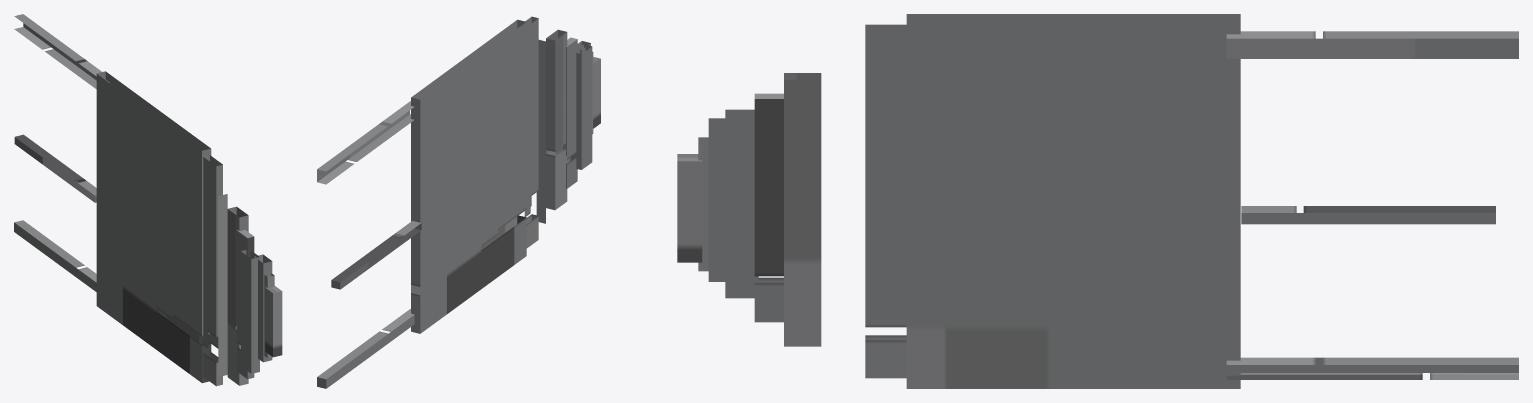
The picture shows the model from 3 angles, left to right: view 1: azimuth 30°, elevation 25°; view 2: azimuth 150°, elevation 25°; view 3: azimuth 270°, elevation 25°; orthographic projection. The views are drawn at different scales.
Size of the model in its own units: 0.1 by 0.972 by 2.09.
